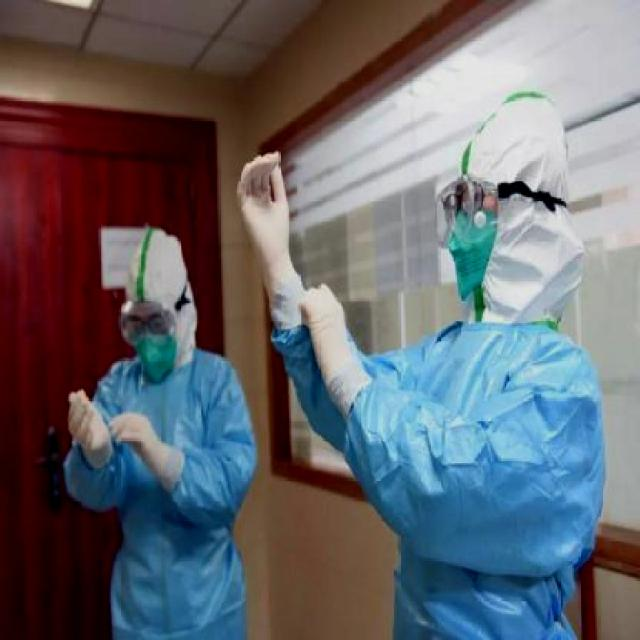face_mask: (283, 91, 605, 640), (63, 212, 263, 640), (437, 171, 508, 286), (117, 305, 183, 369)
glasses: (435, 174, 496, 237), (111, 302, 180, 346)
hand_glove: (236, 151, 298, 263), (298, 284, 357, 378), (66, 386, 111, 462), (111, 411, 160, 462)
